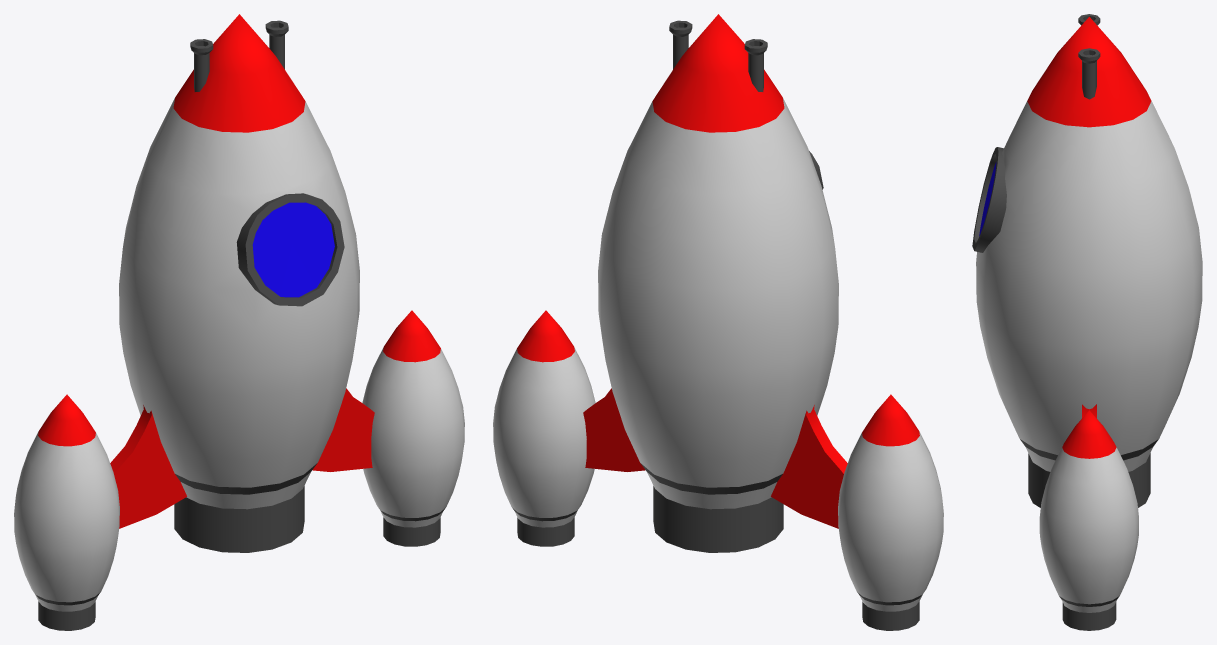
Rendered from Ship.fbx.
The picture shows the model from 3 angles, left to right: view 1: azimuth 30°, elevation 25°; view 2: azimuth 150°, elevation 25°; view 3: azimuth 270°, elevation 25°; orthographic projection. The views are drawn at different scales.
Visible parts, largest first — view 1: Hisham's; view 2: Hisham's; view 3: Hisham's.
Part boxes in pixels (x1,y1,x2,y2): Hisham's: (14,14,464,630); Hisham's: (493,14,943,630); Hisham's: (972,14,1202,630).
Bounding box in the file's own units: 62.84 × 77.27 × 30.74.
